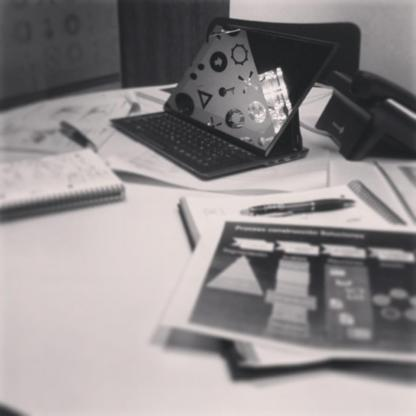board: (114, 7, 337, 181)
